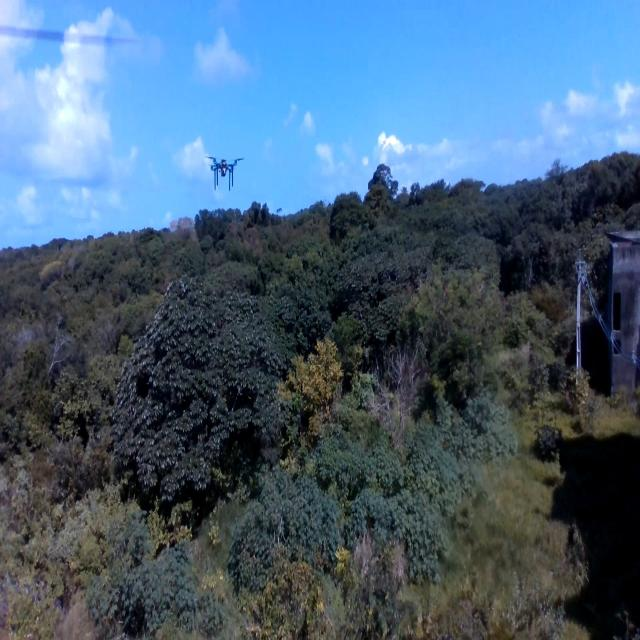-uav-: (206, 151, 248, 206)
